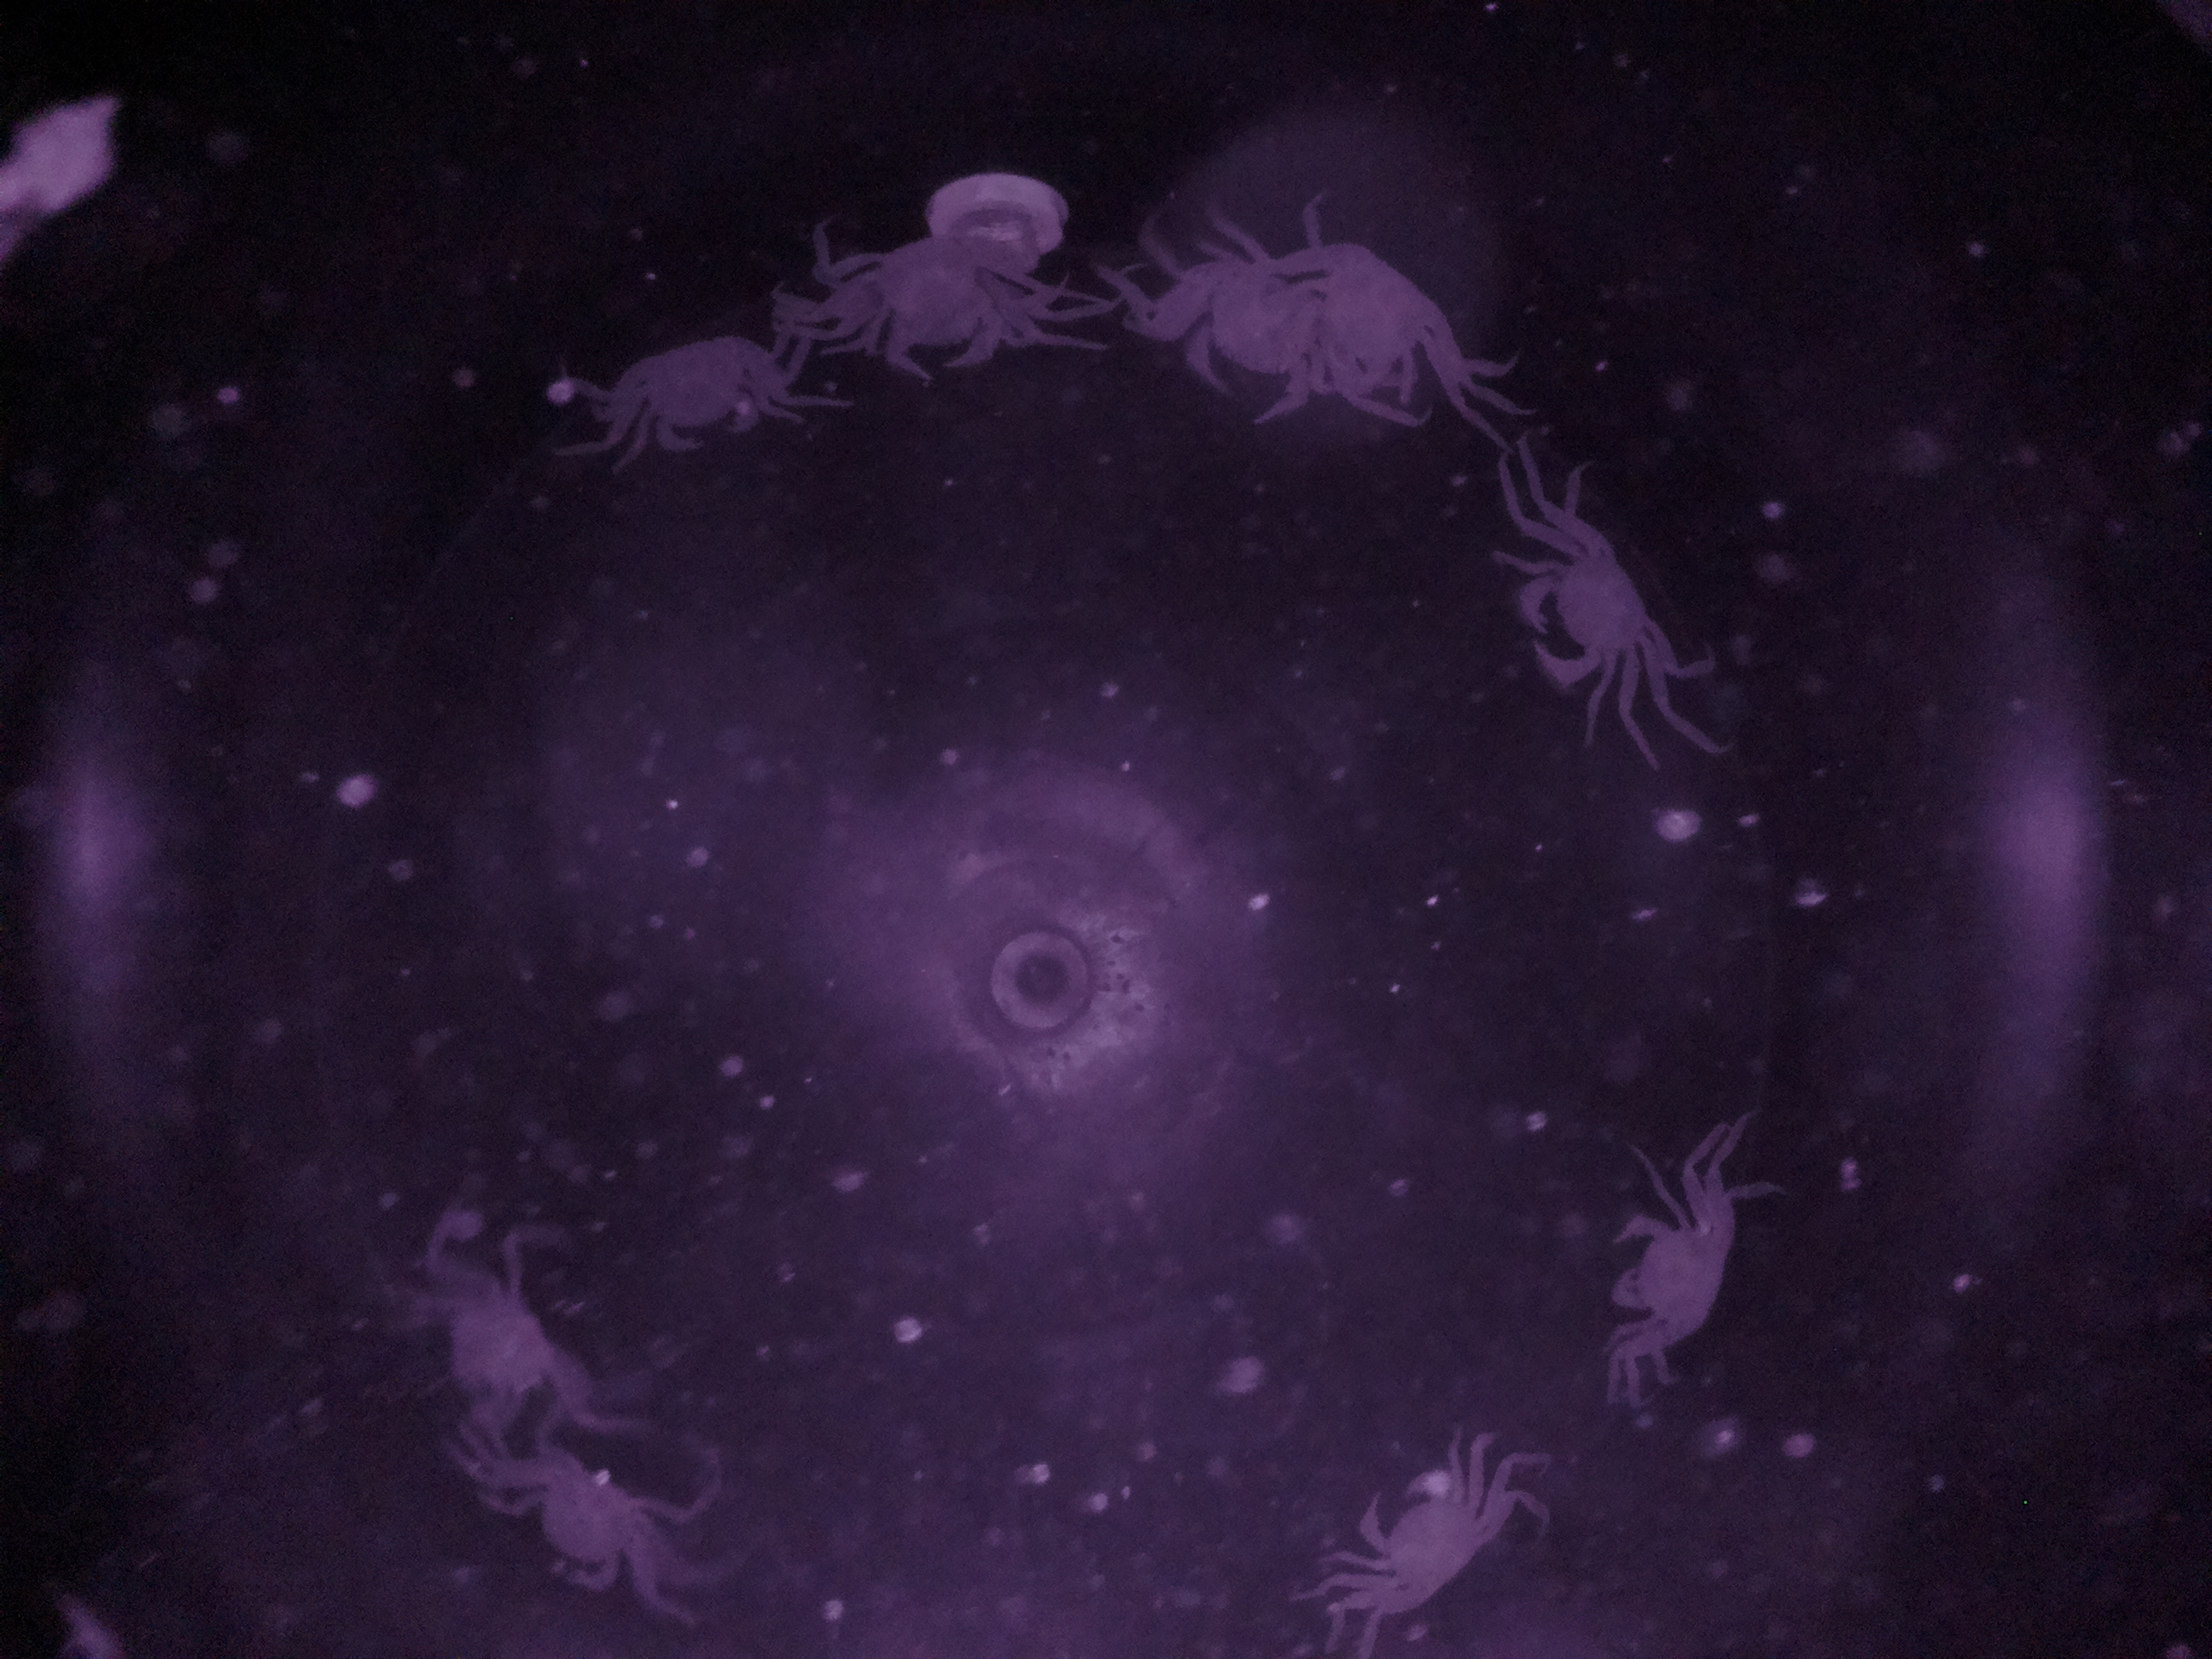Crab: (1487, 507, 1684, 716), (1595, 1171, 1761, 1382), (1322, 1445, 1505, 1633), (580, 319, 801, 453)
